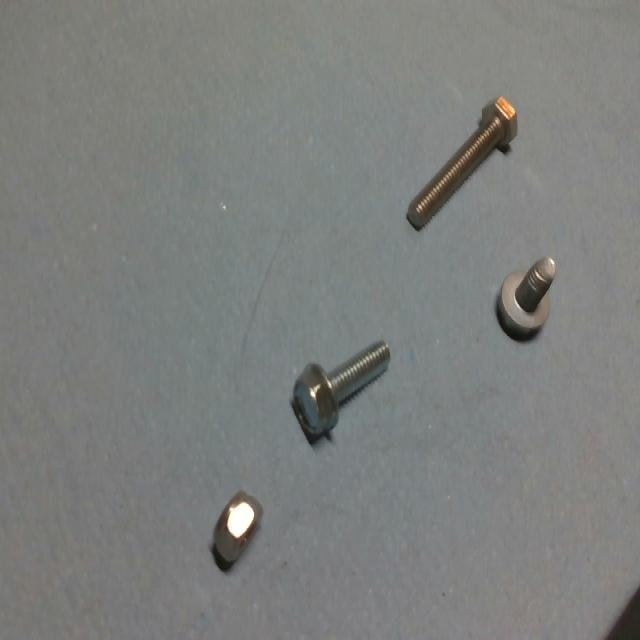Bolt: (399, 90, 524, 238), (280, 331, 404, 442), (482, 252, 564, 351)
Nut: (200, 480, 273, 577)
